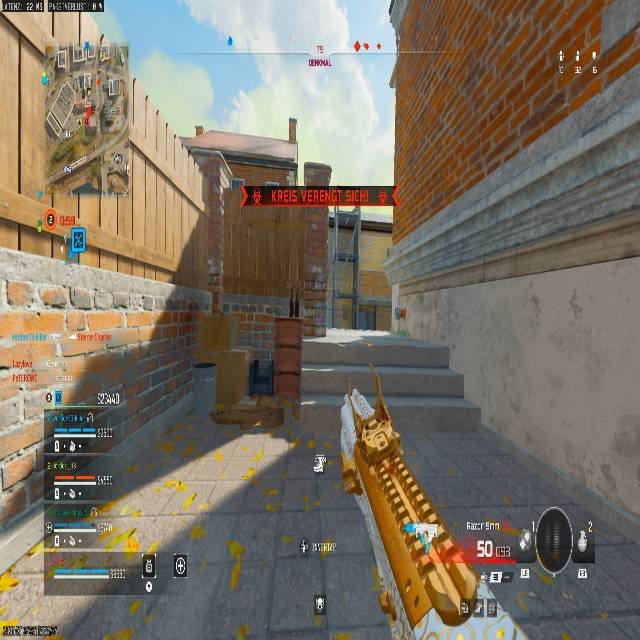player: (63, 222, 87, 265)
